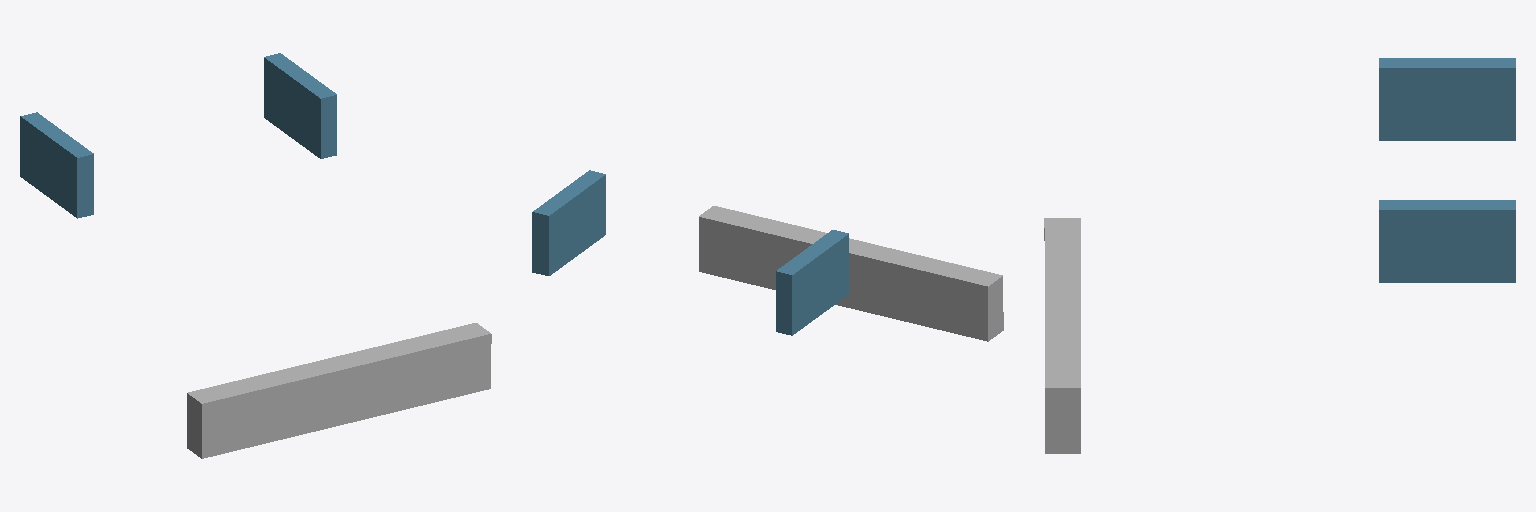
URDF robot description (ur5_robotiq_85):
<?xml version="1.0" ?>
<!-- =================================================================================== -->
<!-- |    This document was autogenerated by xacro from sisbot.xacro                   | -->
<!-- |    EDITING THIS FILE BY HAND IS NOT RECOMMENDED                                 | -->
<!-- =================================================================================== -->
<robot name="ur5_robotiq_85" xmlns:xacro="http://ros.org/wiki/xacro">
  <!--################################################
  ########              arm                    #######
  ####################################################-->

  <link name="base_link">
    <visual>
      <geometry>
        <mesh filename="../meshes/ur5/visual/base.obj"/>
      </geometry>
      <material name="LightGrey">
        <color rgba="0.7 0.7 0.7 1.0"/>
      </material>
    </visual>
    <collision>
      <geometry>
        <mesh filename="../meshes/ur5/collision/base.stl"/>
      </geometry>
    </collision>
    <inertial>
      <mass value="4.0"/>
      <origin rpy="0 0 0" xyz="0.0 0.0 0.0"/>
      <inertia ixx="0.00443333156" ixy="0.0" ixz="0.0" iyy="0.00443333156" iyz="0.0" izz="0.0072"/>
    </inertial>
  </link>

  <joint name="shoulder_pan_joint" type="revolute">
    <parent link="base_link"/>
    <child link="shoulder_link"/>
    <origin rpy="0.0 0.0 0.0" xyz="0.0 0.0 0.089159"/>
    <axis xyz="0 0 1"/>
    <limit effort="150.0" lower="-6.28318530718" upper="6.28318530718" velocity="3.15"/>
    <dynamics damping="0.0" friction="0.0"/>
  </joint>
  <link name="shoulder_link">
    <visual>
      <geometry>
        <mesh filename="../meshes/ur5/visual/shoulder.obj"/>
      </geometry>
      <material name="UR-Blue">
        <color rgba="0.376 0.576 0.674 1.0"/>
      </material>
    </visual>
    <collision>
      <geometry>
        <mesh filename="../meshes/ur5/collision/shoulder.stl"/>
      </geometry>
    </collision>
    <inertial>
      <mass value="3.7"/>
      <origin rpy="0 0 0" xyz="0.0 0.0 0.0"/>
      <inertia ixx="0.010267495893" ixy="0.0" ixz="0.0" iyy="0.010267495893" iyz="0.0" izz="0.00666"/>
    </inertial>
  </link>
  <joint name="shoulder_lift_joint" type="revolute">
    <parent link="shoulder_link"/>
    <child link="upper_arm_link"/>
    <origin rpy="0.0 1.57079632679 0.0" xyz="0.0 0.13585 0.0"/>
    <axis xyz="0 1 0"/>
    <limit effort="150.0" lower="-6.28318530718" upper="6.28318530718" velocity="3.15"/>
    <dynamics damping="0.0" friction="0.0"/>
  </joint>
  <link name="upper_arm_link">
    <visual>
      <geometry>
        <mesh filename="../meshes/ur5/visual/upperarm.obj"/>
      </geometry>
      <material name="LightGrey">
        <color rgba="0.7 0.7 0.7 1.0"/>
      </material>
    </visual>
    <collision>
      <geometry>
        <mesh filename="../meshes/ur5/collision/upperarm.stl"/>
      </geometry>
    </collision>
    <inertial>
      <mass value="8.393"/>
      <origin rpy="0 0 0" xyz="0.0 0.0 0.28"/>
      <inertia ixx="0.22689067591" ixy="0.0" ixz="0.0" iyy="0.22689067591" iyz="0.0" izz="0.0151074"/>
    </inertial>
  </link>
  <joint name="elbow_joint" type="revolute">
    <parent link="upper_arm_link"/>
    <child link="forearm_link"/>
    <origin rpy="0.0 0.0 0.0" xyz="0.0 -0.1197 0.425"/>
    <axis xyz="0 1 0"/>
    <limit effort="150.0" lower="-6.28318530718" upper="6.28318530718" velocity="3.15"/>
    <dynamics damping="0.0" friction="0.0"/>
  </joint>
  <link name="forearm_link">
    <visual>
      <geometry>
        <mesh filename="../meshes/ur5/visual/forearm.obj"/>
      </geometry>
      <material name="LightGrey">
        <color rgba="0.7 0.7 0.7 1.0"/>
      </material>
    </visual>
    <collision>
      <geometry>
        <mesh filename="../meshes/ur5/collision/forearm.stl"/>
      </geometry>
    </collision>
    <inertial>
      <mass value="2.275"/>
      <origin rpy="0 0 0" xyz="0.0 0.0 0.196125"/>
      <inertia ixx="0.0312167910289" ixy="0.0" ixz="0.0" iyy="0.0312167910289" iyz="0.0" izz="0.004095"/>
    </inertial>
  </link>
  <joint name="wrist_1_joint" type="revolute">
    <parent link="forearm_link"/>
    <child link="wrist_1_link"/>
    <origin rpy="0.0 1.57079632679 0.0" xyz="0.0 0.0 0.39225"/>
    <axis xyz="0 1 0"/>
    <limit effort="28.0" lower="-6.28318530718" upper="6.28318530718" velocity="3.2"/>
    <dynamics damping="0.0" friction="0.0"/>
  </joint>
  <link name="wrist_1_link">
    <visual>
      <geometry>
        <mesh filename="../meshes/ur5/visual/wrist1.obj"/>
      </geometry>
      <material name="UR-Blue">
        <color rgba="0.376 0.576 0.674 1.0"/>
      </material>
    </visual>
    <collision>
      <geometry>
        <mesh filename="../meshes/ur5/collision/wrist1.stl"/>
      </geometry>
    </collision>
    <inertial>
      <mass value="1.219"/>
      <origin rpy="0 0 0" xyz="0.0 0.093 0.0"/>
      <inertia ixx="0.00255989897604" ixy="0.0" ixz="0.0" iyy="0.00255989897604" iyz="0.0" izz="0.0021942"/>
    </inertial>
  </link>

  <joint name="wrist_2_joint" type="revolute">
    <parent link="wrist_1_link"/>
    <child link="wrist_2_link"/>
    <origin rpy="0.0 0.0 0.0" xyz="0.0 0.093 0.0"/>
    <axis xyz="0 0 1"/>
    <limit effort="28.0" lower="-6.28318530718" upper="6.28318530718" velocity="3.2"/>
    <dynamics damping="0.0" friction="0.0"/>
  </joint>

  <link name="wrist_2_link">
    <visual>
      <geometry>
        <mesh filename="../meshes/ur5/visual/wrist2.obj"/>
      </geometry>
      <material name="DarkGray">
        <color rgba="0.5 0.5 0.5 1.0"/>
      </material>
    </visual>
    <collision>
      <geometry>
        <mesh filename="../meshes/ur5/collision/wrist2.stl"/>
      </geometry>
    </collision>
    <inertial>
      <mass value="1.219"/>
      <origin rpy="0 0 0" xyz="0.0 0.0 0.09465"/>
      <inertia ixx="0.00255989897604" ixy="0.0" ixz="0.0" iyy="0.00255989897604" iyz="0.0" izz="0.0021942"/>
    </inertial>
  </link>
  <joint name="wrist_3_joint" type="revolute">
    <parent link="wrist_2_link"/>
    <child link="wrist_3_link"/>
    <origin rpy="0.0 0.0 0.0" xyz="0.0 0.0 0.09465"/>
    <axis xyz="0 1 0"/>
    <limit effort="28.0" lower="-6.28318530718" upper="6.28318530718" velocity="3.2"/>
    <dynamics damping="0.0" friction="0.0"/>
  </joint>
  <link name="wrist_3_link">
    <visual>
      <geometry>
        <mesh filename="../meshes/ur5/visual/wrist3.obj"/>
      </geometry>
      <material name="LightGrey">
        <color rgba="0.7 0.7 0.7 1.0"/>
      </material>
    </visual>
    <collision>
      <geometry>
        <mesh filename="../meshes/ur5/collision/wrist3.stl"/>
      </geometry>
    </collision>
    <inertial>
      <mass value="0.1879"/>
      <origin rpy="1.57079632679 0 0" xyz="0.0 0.06505 0.0"/>
      <inertia ixx="8.46958911216e-05" ixy="0.0" ixz="0.0" iyy="8.46958911216e-05" iyz="0.0" izz="0.0001321171875"/>
    </inertial>
  </link>
  <joint name="ee_fixed_joint" type="fixed">
    <parent link="wrist_3_link"/>
    <child link="ee_link"/>
    <origin rpy="0.0 0.0 1.57079632679" xyz="0.0 0.0823 0.0"/>
  </joint>
  <link name="ee_link">
    <collision>
      <geometry>
        <box size="0.01 0.01 0.01"/>
      </geometry>
      <origin rpy="0 0 0" xyz="-0.01 0 0"/>
    </collision>
    <inertial>
      <mass value="0.0"/>
      <origin rpy="0 0 0" xyz="0.0 0.0 0.0"/>
      <inertia ixx="0.0" ixy="0.0" ixz="0.0" iyy="0.0" iyz="0.0" izz="0.0"/>
    </inertial>
  </link>

  <!-- tool center link -->
  <link name="tool0">
    <inertial>
      <mass value="0.0"/>
      <origin rpy="0 0 0" xyz="0.0 0.0 0.0"/>
      <inertia ixx="0.0" ixy="0.0" ixz="0.0" iyy="0.0" iyz="0.0" izz="0.0"/>
    </inertial>
  </link>
  <joint name="wrist_3_link-tool0_fixed_joint" type="fixed">
    <origin rpy="-1.57079632679 0 0" xyz="0 0.0823 0"/>
    <parent link="wrist_3_link"/>
    <child link="tool0"/>
  </joint>

  <link name="tool_tip">
    <inertial>
      <mass value="0.0"/>
      <origin rpy="0 0 0" xyz="0.0 0.0 0.0"/>
      <inertia ixx="0.0" ixy="0.0" ixz="0.0" iyy="0.0" iyz="0.0" izz="0.0"/>
    </inertial>
    <!--<visual>
    <transparency>1</transparency>
      <geometry>
        <box size="0.01 0.01 0.01"/>
      </geometry>
      <origin rpy="0 0 0" xyz="0 0 0"/>
    </visual>-->

    <!--<collision>
        <transparency>1</transparency>
        <origin rpy="0 0 0" xyz="0 0 0"/>
         <geometry>
        <box size="0.01 0.01 0.01"/>
      </geometry>
    </collision>-->
  </link>

  <joint name="tool0_fixed_joint-tool_tip" type="fixed">
    <origin rpy="0 0 0" xyz="0 0 0.16"/>
    <parent link="tool0"/>
    <child link="tool_tip"/>
  </joint>



  <!-- Dummy Camera link -->
  <joint name="dummy_camera_joint" type="fixed">
    <parent link="ee_link"/>
    <child link="dummy_camera_link"/>
    <origin rpy="1.57 3.14 1.57" xyz="0.025 0 0.05"/>
  </joint>
  <link name="dummy_camera_link">
    <contact>
      <lateral_friction value="0.5"/>
      <rolling_friction value="0.0001"/>
      <inertia_scaling value="3.0"/>
    </contact>
    <inertial>
      <origin rpy="0 0 0" xyz="0 0 0"/>
       <mass value=".1"/>
       <inertia ixx="1" ixy="0" ixz="0" iyy="1" iyz="0" izz="1"/>
    </inertial>
    <visual>
      <origin rpy="0 0 0" xyz="0 0 0"/>
      <geometry>
         <box size="0.11 0.02 0.01"/>
      </geometry>
      <material name="gray">
        <color rgba="0.75 0.75 0.75 .8"/>
      </material>
    </visual>
    <!--<collision>
      <origin rpy="0 0 0" xyz="0 0 0"/>
      <geometry>
	 	    <box size="0.11 0.02 0.01"/>
      </geometry>
    </collision>-->
    </link>


  <!--################################################
  ########              gripper                  #####
  ####################################################-->

  <link name="robotiq_arg2f_base_link">
    <inertial>
      <origin rpy="0 0 0" xyz="8.625E-08 -4.6583E-06 0.03145"/>
      <mass value="0.22652"/>
      <inertia ixx="0.00020005" ixy="-4.2442E-10" ixz="-2.9069E-10" iyy="0.00017832" iyz="-3.4402E-08" izz="0.00013478"/>
    </inertial>
    <visual>
      <origin rpy="0 0 0" xyz="0 0 0"/>
      <geometry>
        <mesh filename="../meshes/robotiq_85/visual/robotiq_arg2f_85_base_link.dae" scale="0.001 0.001 0.001"/>
      </geometry>
      <material name="LightGrey">
        <color rgba="0.7 0.7 0.7 1.0"/>
      </material>
    </visual>
    <collision>
      <origin rpy="0 0 0" xyz="0 0 0"/>
      <geometry>
        <mesh filename="../meshes/robotiq_85/collision/robotiq_arg2f_base_link.stl"/>
      </geometry>
    </collision>
  </link>
  <joint name="finger_joint" type="revolute">
    <origin rpy="0 0 3.14159265359" xyz="0 -0.0306011 0.054904"/>
    <parent link="robotiq_arg2f_base_link"/>
    <child link="left_outer_knuckle"/>
    <axis xyz="1 0 0"/>
    <limit effort="1000" lower="0" upper="0.8" velocity="2.0"/>
  </joint>
  <link name="left_outer_knuckle">
    <inertial>
        <origin xyz="-0.000200000000003065 0.0199435877845359 0.0292245259211331" rpy="0 0 0" />
        <mass value="0.00853198276973456" />
        <inertia ixx="2.89328108496468E-06" ixy="-1.57935047237397E-19" ixz="-1.93980378593255E-19" iyy="1.86719750325683E-06" iyz="-1.21858577871576E-06" izz="1.21905238907251E-06" />
        </inertial>
    <visual>
      <origin rpy="0 0 0" xyz="0 0 0"/>
      <geometry>
        <mesh filename="../meshes/robotiq_85/visual/robotiq_arg2f_85_outer_knuckle.dae" scale="0.001 0.001 0.001"/>
      </geometry>
      <material name="">
        <color rgba="1 1 0 1"/>
      </material>
    </visual>
    <collision>
      <origin rpy="0 0 0" xyz="0 0 0"/>
      <geometry>
        <mesh filename="../meshes/robotiq_85/collision/robotiq_arg2f_85_outer_knuckle.dae" scale="0.001 0.001 0.001"/>
      </geometry>
    </collision>
  </link>
  <joint name="left_outer_finger_joint" type="fixed">
    <origin rpy="0 0 0" xyz="0 0.0315 -0.0041"/>
    <parent link="left_outer_knuckle"/>
    <child link="left_outer_finger"/>
    <axis xyz="1 0 0"/>
  </joint>
  <link name="left_outer_finger">
    <inertial>
        <origin xyz="0.00030115855001899 0.0373907951953854 -0.0208027427000385" rpy="0 0 0" />
        <mass value="0.022614240507152" />
        <inertia ixx="1.52518312458174E-05" ixy="9.76583423954399E-10" ixz="-5.43838577022588E-10" iyy="6.17694243867776E-06" iyz="6.78636130740228E-06" izz="1.16494917907219E-05" />
        </inertial>
    <visual>
      <origin rpy="0 0 0" xyz="0 0 0"/>
      <geometry>
        <mesh filename="../meshes/robotiq_85/visual/robotiq_arg2f_85_outer_finger.dae" scale="0.001 0.001 0.001"/>
      </geometry>
      <material name="LightGrey">
        <color rgba="0 1 1 1.0"/>
      </material>
    </visual>
    <collision>
      <origin rpy="0 0 0" xyz="0 0 0"/>
      <geometry>
        <mesh filename="../meshes/robotiq_85/collision/robotiq_arg2f_85_outer_finger.dae" scale="0.001 0.001 0.001"/>
      </geometry>
    </collision>
  </link>
  <joint name="left_inner_finger_joint" type="revolute">
    <origin rpy="0 0 0" xyz="0 0.0061 0.0471"/>
    <parent link="left_outer_finger"/>
    <child link="left_inner_finger"/>
    <axis xyz="1 0 0"/>
    <limit effort="1000" lower="-0.8757" upper="0" velocity="2.0"/>
    <mimic joint="finger_joint" multiplier="-1" offset="0"/>
  </joint>
  <link name="left_inner_finger">
    <inertial>
        <origin xyz="0.000299999999999317 0.0160078233491243 -0.0136945669206257" rpy="0 0 0" />
        <mass value="0.0104003125914103" />
        <inertia ixx="2.71909453810972E-06" ixy="1.35402465472579E-21" ixz="-7.1817349065269E-22" iyy="7.69100314106116E-07" iyz="6.74715432769696E-07" izz="2.30315190420171E-06" />
        </inertial>
    <visual>
      <origin rpy="0 0 0" xyz="0 0 0"/>
      <geometry>
        <mesh filename="../meshes/robotiq_85/visual/robotiq_arg2f_85_inner_finger.dae" scale="0.001 0.001 0.001"/>
      </geometry>
      <material name="LightGrey">
        <color rgba="1 0 1 1.0"/>
      </material>
    </visual>
    <collision>
      <origin rpy="0 0 0" xyz="0 0 0"/>
      <geometry>
        <mesh filename="../meshes/robotiq_85/collision/robotiq_arg2f_85_inner_finger.dae" scale="0.001 0.001 0.001"/>
      </geometry>
    </collision>
  </link>
  <joint name="left_inner_finger_pad_joint" type="fixed">
    <origin rpy="0 0 0" xyz="0 -0.0220203446692936 0.03242"/>
    <parent link="left_inner_finger"/>
    <child link="left_inner_finger_pad"/>
    <axis xyz="0 0 1"/>
  </joint>
  <link name="left_inner_finger_pad">
    <inertial>
      <mass value="1."/>
      <inertia ixx="1E-10" ixy="1E-10" ixz="1E-10" iyy="1E-10" iyz="1E-10" izz="1E-10"/>
    </inertial>
    <visual>
      <origin rpy="0 0 0" xyz="0 0 0"/>
      <geometry>
        <box size="0.022 0.00635 0.0375"/>
      </geometry>
      <material name="UR-Blue">
        <color rgba="0.376 0.576 0.674 1.0"/>
      </material>
    </visual>
    <collision>
      <origin rpy="0 0 0" xyz="0 0 0"/>
      <geometry>
        <box size="0.022 0.00635 0.0375"/>
      </geometry>
      <material name="">
        <color rgba="0.9 0.0 0.0 1"/>
      </material>
        <surface>
          <friction>
              <ode>
                  <mu>0.5</mu>
                  <mu2>0.5</mu2>
              </ode>
          </friction>
        </surface>
    </collision>
  </link>
  <joint name="left_inner_knuckle_joint" type="revolute">
    <!-- <origin xyz="0 ${reflect * -0.0127} 0.06142" rpy="${pi / 2 + .725} 0 ${(reflect - 1) * pi / 2}" /> -->
    <origin rpy="0 0 3.14159265359" xyz="0 -0.0127 0.06142"/>
    <parent link="robotiq_arg2f_base_link"/>
    <child link="left_inner_knuckle"/>
    <axis xyz="1 0 0"/>
    <limit effort="1000" lower="0" upper="0.8757" velocity="2.0"/>
    <mimic joint="finger_joint" multiplier="1" offset="0"/>
  </joint>
  <link name="left_inner_knuckle">
    <inertial>
        <origin xyz="0.000123011831763771 0.0507850843201817 0.00103968640075166" rpy="0 0 0" />
       <mass value="0.0271177346495152" />
        <inertia ixx="2.61910379223783E-05" ixy="-2.43616858946494E-07" ixz="-6.37789906117123E-09" iyy="2.8270243746167E-06" iyz="-5.37200748039765E-07" izz="2.83695868220296E-05" />
        </inertial>
    <visual>
      <origin rpy="0 0 0" xyz="0 0 0"/>
      <geometry>
        <mesh filename="../meshes/robotiq_85/visual/robotiq_arg2f_85_inner_knuckle.dae" scale="0.001 0.001 0.001"/>
      </geometry>
      <material name="LightGrey">
        <color rgba="0 0 1 1.0"/>
      </material>
    </visual>
    <collision>
      <origin rpy="0 0 0" xyz="0 0 0"/>
      <geometry>
        <mesh filename="../meshes/robotiq_85/collision/robotiq_arg2f_85_inner_knuckle.dae" scale="0.001 0.001 0.001"/>
      </geometry>
    </collision>
  </link>
  <joint name="right_outer_knuckle_joint" type="revolute">
    <origin rpy="0 0 0" xyz="0 0.0306011 0.054904"/>
    <parent link="robotiq_arg2f_base_link"/>
    <child link="right_outer_knuckle"/>
    <axis xyz="1 0 0"/>
    <limit effort="1000" lower="0" upper="0.81" velocity="2.0"/>
    <mimic joint="finger_joint" multiplier="1" offset="0"/>
  </joint>
  <link name="right_outer_knuckle">
    <inertial>
        <origin xyz="-0.000200000000003065 0.0199435877845359 0.0292245259211331" rpy="0 0 0" />
        <mass value="0.00853198276973456" />
        <inertia ixx="2.89328108496468E-06" ixy="-1.57935047237397E-19" ixz="-1.93980378593255E-19" iyy="1.86719750325683E-06" iyz="-1.21858577871576E-06" izz="1.21905238907251E-06" />
        </inertial>
    <visual>
      <origin rpy="0 0 0" xyz="0 0 0"/>
      <geometry>
        <mesh filename="../meshes/robotiq_85/visual/robotiq_arg2f_85_outer_knuckle.dae" scale="0.001 0.001 0.001"/>
      </geometry>
      <material name="">
        <color rgba="0.792156862745098 0.819607843137255 0.933333333333333 1"/>
      </material>
    </visual>
    <collision>
      <origin rpy="0 0 0" xyz="0 0 0"/>
      <geometry>
        <mesh filename="../meshes/robotiq_85/collision/robotiq_arg2f_85_outer_knuckle.dae" scale="0.001 0.001 0.001"/>
      </geometry>
    </collision>
  </link>
  <joint name="right_outer_finger_joint" type="fixed">
    <origin rpy="0 0 0" xyz="0 0.0315 -0.0041"/>
    <parent link="right_outer_knuckle"/>
    <child link="right_outer_finger"/>
    <axis xyz="1 0 0"/>
  </joint>
  <link name="right_outer_finger">
    <inertial>
        <origin xyz="0.00030115855001899 0.0373907951953854 -0.0208027427000385" rpy="0 0 0" />
        <mass value="0.022614240507152" />
        <inertia ixx="1.52518312458174E-05" ixy="9.76583423954399E-10" ixz="-5.43838577022588E-10" iyy="6.17694243867776E-06" iyz="6.78636130740228E-06" izz="1.16494917907219E-05" />
        </inertial>
    <visual>
      <origin rpy="0 0 0" xyz="0 0 0"/>
      <geometry>
        <mesh filename="../meshes/robotiq_85/visual/robotiq_arg2f_85_outer_finger.dae" scale="0.001 0.001 0.001"/>
      </geometry>
      <material name="LightGrey">
        <color rgba="0.7 0.7 0.7 1.0"/>
      </material>
    </visual>
    <collision>
      <origin rpy="0 0 0" xyz="0 0 0"/>
      <geometry>
        <mesh filename="../meshes/robotiq_85/collision/robotiq_arg2f_85_outer_finger.dae" scale="0.001 0.001 0.001"/>
      </geometry>
    </collision>
  </link>
  <joint name="right_inner_finger_joint" type="revolute">
    <origin rpy="0 0 0" xyz="0 0.0061 0.0471"/>
    <parent link="right_outer_finger"/>
    <child link="right_inner_finger"/>
    <axis xyz="1 0 0"/>
    <limit effort="1000" lower="-0.8757" upper="0" velocity="2.0"/>
    <mimic joint="finger_joint" multiplier="-1" offset="0"/>
  </joint>
  <link name="right_inner_finger">
    <inertial>
        <origin xyz="0.000299999999999317 0.0160078233491243 -0.0136945669206257" rpy="0 0 0" />
        <mass value="0.0104003125914103" />
        <inertia ixx="2.71909453810972E-06" ixy="1.35402465472579E-21" ixz="-7.1817349065269E-22" iyy="7.69100314106116E-07" iyz="6.74715432769696E-07" izz="2.30315190420171E-06" />
        </inertial>
    <visual>
      <origin rpy="0 0 0" xyz="0 0 0"/>
      <geometry>
        <mesh filename="../meshes/robotiq_85/visual/robotiq_arg2f_85_inner_finger.dae" scale="0.001 0.001 0.001"/>
      </geometry>
      <material name="">
        <color rgba="0.1 0.1 0.1 1"/>
      </material>
    </visual>
    <collision>
      <origin rpy="0 0 0" xyz="0 0 0"/>
      <geometry>
        <mesh filename="../meshes/robotiq_85/collision/robotiq_arg2f_85_inner_finger.dae" scale="0.001 0.001 0.001"/>
      </geometry>
    </collision>
  </link>
  <joint name="right_inner_finger_pad_joint" type="fixed">
    <origin rpy="0 0 0" xyz="0 -0.0220203446692936 0.03242"/>
    <parent link="right_inner_finger"/>
    <child link="right_inner_finger_pad"/>
    <axis xyz="0 0 1"/>
  </joint>
  <link name="right_inner_finger_pad">
    <inertial>
      <mass value="1"/>
      <inertia ixx="1E-10" ixy="1E-10" ixz="1E-10" iyy="1E-10" iyz="1E-10" izz="1E-10"/>
    </inertial>
    <visual>
      <origin rpy="0 0 0" xyz="0 0 0"/>
      <geometry>
        <box size="0.022 0.00635 0.0375"/>
      </geometry>
      <material name="UR-Blue">
        <color rgba="0.376 0.576 0.674 1.0"/>
      </material>
    </visual>
    <collision>
      <origin rpy="0 0 0" xyz="0 0 0"/>
      <geometry>
        <box size="0.022 0.00635 0.0375"/>
      </geometry>
      <material name="LightGrey">
        <color rgba="0.7 0.7 0.7 1.0"/>
      </material>
        <surface>
          <friction>
              <ode>
                  <mu>0.5</mu>
                  <mu2>0.5</mu2>
              </ode>
          </friction>
        </surface>
    </collision>
  </link>
  <joint name="right_inner_knuckle_joint" type="revolute">
    <!-- <origin xyz="0 ${reflect * -0.0127} 0.06142" rpy="${pi / 2 + .725} 0 ${(reflect - 1) * pi / 2}" /> -->
    <origin rpy="0 0 0.0" xyz="0 0.0127 0.06142"/>
    <parent link="robotiq_arg2f_base_link"/>
    <child link="right_inner_knuckle"/>
    <axis xyz="1 0 0"/>
    <limit effort="1000" lower="0" upper="0.8757" velocity="2.0"/>
    <mimic joint="finger_joint" multiplier="1" offset="0"/>
  </joint>
  <link name="right_inner_knuckle">
    <inertial>
        <origin xyz="0.000123011831763771 0.0507850843201817 0.00103968640075166" rpy="0 0 0" />
       <mass value="0.0271177346495152" />
        <inertia ixx="2.61910379223783E-05" ixy="-2.43616858946494E-07" ixz="-6.37789906117123E-09" iyy="2.8270243746167E-06" iyz="-5.37200748039765E-07" izz="2.83695868220296E-05" />
        </inertial>
    <visual>
      <origin rpy="0 0 0" xyz="0 0 0"/>
      <geometry>
        <mesh filename="../meshes/robotiq_85/visual/robotiq_arg2f_85_inner_knuckle.dae" scale="0.001 0.001 0.001"/>
      </geometry>
      <material name="LightGrey">
        <color rgba="0.7 0.7 0.7 1.0"/>
      </material>
    </visual>
    <collision>
      <origin rpy="0 0 0" xyz="0 0 0"/>
      <geometry>
        <mesh filename="../meshes/robotiq_85/collision/robotiq_arg2f_85_inner_knuckle.dae" scale="0.001 0.001 0.001"/>
      </geometry>
    </collision>
  </link>

<!--################################################
  ########          connect model                #####
  ####################################################-->

  <link name="world"/>
  <!-- connect gripper to arm -->
  <joint name="robotiq_85_base_joint" type="fixed">
    <parent link="ee_link"/>
    <child link="robotiq_arg2f_base_link"/>
    <origin rpy="0 1.57079632679 0" xyz="0 0 0"/>
  </joint>

<!--  <joint name="arm_gripper_joint" type="fixed">-->
<!--    <parent link="ee_link"/>-->
<!--    <child link="robotiq_140_robotiq_arg2f_base_link"/>-->
<!--    <origin rpy="-1.57 1.57 -1.57" xyz="0.0 0.0 0.0"/>-->
<!--  </joint>-->

  <!-- connect arm to world -->
  <joint name="world_arm_joint" type="fixed">
    <parent link="world"/>
    <child link="base_link"/>
    <origin rpy="0.0 0.0 0" xyz="0 0 0"/>
  </joint>


</robot>

--- Facts derived from the render (not from the file) ---
3 views of the same robot in one strip: view 1: azimuth 30°, elevation 25°; view 2: azimuth 150°, elevation 25°; view 3: azimuth 270°, elevation 25° (orthographic).
Robot: ur5_robotiq_85 — 23 links, 22 joints (12 revolute, 10 fixed); root link world; default pose: all joints at 0.
Visible links, largest first — view 1: dummy_camera_link, left_inner_finger_pad, right_inner_finger_pad; view 2: dummy_camera_link, right_inner_finger_pad, left_inner_finger_pad; view 3: left_inner_finger_pad, right_inner_finger_pad, dummy_camera_link.
Link boxes in pixels (bbox=[...]): dummy_camera_link: bbox=[187, 323, 491, 458]; left_inner_finger_pad: bbox=[20, 112, 93, 218]; right_inner_finger_pad: bbox=[264, 53, 336, 158]; dummy_camera_link: bbox=[699, 206, 1003, 341]; right_inner_finger_pad: bbox=[532, 170, 605, 275]; left_inner_finger_pad: bbox=[776, 230, 848, 335]; left_inner_finger_pad: bbox=[1379, 58, 1515, 140]; right_inner_finger_pad: bbox=[1379, 200, 1515, 282]; dummy_camera_link: bbox=[1044, 218, 1080, 453].
Size in the robot's own frame: 0.11 by 0.1291 by 0.0711 metres.
Meshes: 12 distinct files referenced, 0 mesh visuals loaded (none loaded); not drawn: 16 (reference not matched to a file when rendering).